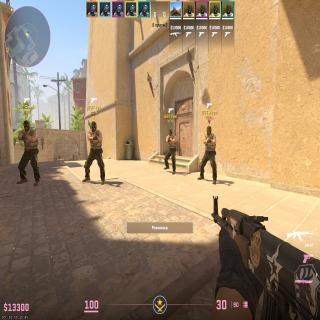T-Body: (18, 120, 39, 186), (85, 121, 105, 185), (200, 126, 216, 184), (164, 128, 177, 174)
T-Head: (23, 120, 30, 131), (91, 121, 97, 132), (206, 126, 212, 135), (169, 128, 173, 136)
